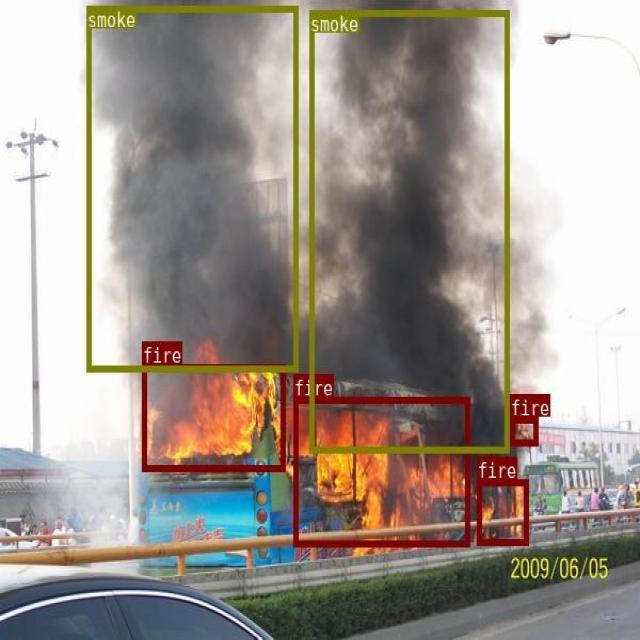fire: (293, 395, 469, 545), (141, 364, 285, 470), (476, 478, 528, 544), (509, 416, 537, 445)
smoke: (309, 9, 508, 451), (86, 5, 297, 371)
